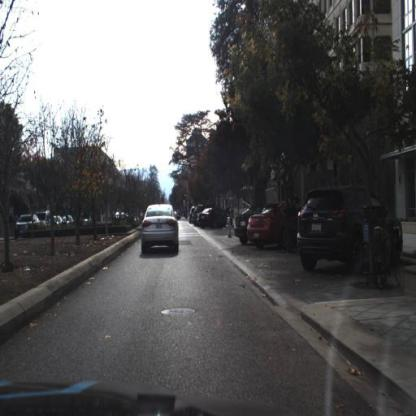car: (297, 186, 404, 272), (139, 199, 181, 260), (247, 202, 299, 251), (234, 202, 251, 253), (199, 207, 228, 230), (16, 212, 40, 238), (13, 215, 40, 238), (234, 207, 251, 243), (196, 208, 225, 228), (36, 211, 52, 228)
pedestrian: (248, 204, 299, 251)
